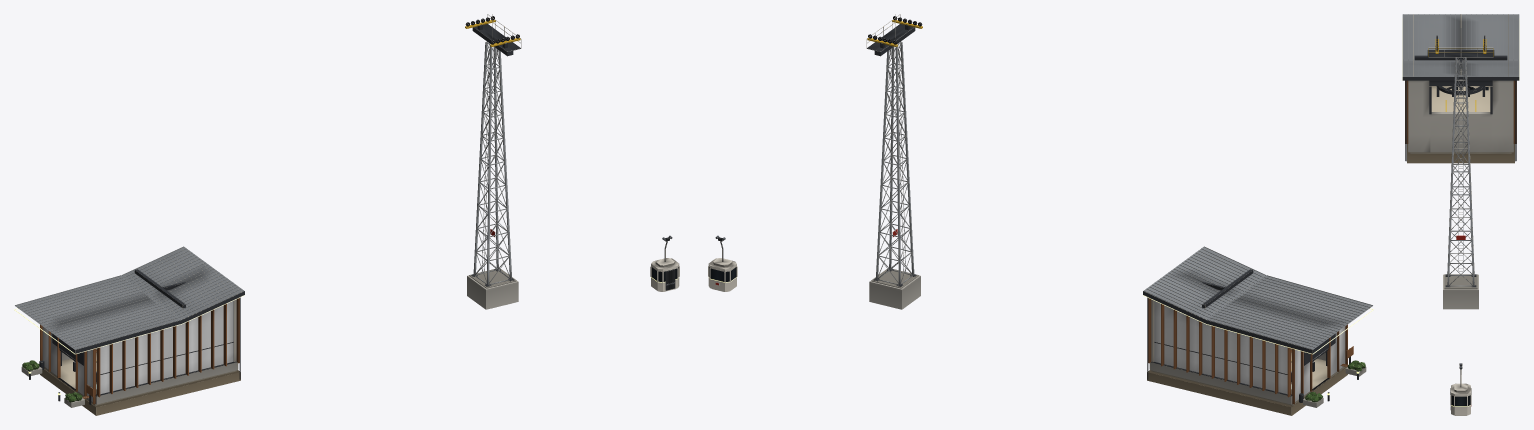
Rendered from cableway.glb.
3 renders of one model, left to right at view 1: azimuth 30°, elevation 25°; view 2: azimuth 150°, elevation 25°; view 3: azimuth 270°, elevation 25°, orthographic. The views are drawn at different scales.
Parts seen in each view (by area): view 1: cw_station, cw_tower, cw_cabin; view 2: cw_station, cw_tower, cw_cabin; view 3: cw_station, cw_tower, cw_cabin.
Part boxes in pixels (<box>): cw_station: <box>14,246,244,415</box>; cw_tower: <box>465,14,521,309</box>; cw_cabin: <box>650,235,679,291</box>; cw_station: <box>1143,246,1373,415</box>; cw_tower: <box>866,14,922,309</box>; cw_cabin: <box>708,235,737,291</box>; cw_station: <box>1402,14,1519,163</box>; cw_tower: <box>1427,28,1494,309</box>; cw_cabin: <box>1450,363,1471,415</box>.
Size of the model in its own units: 73.42 by 34.97 by 12.28.
